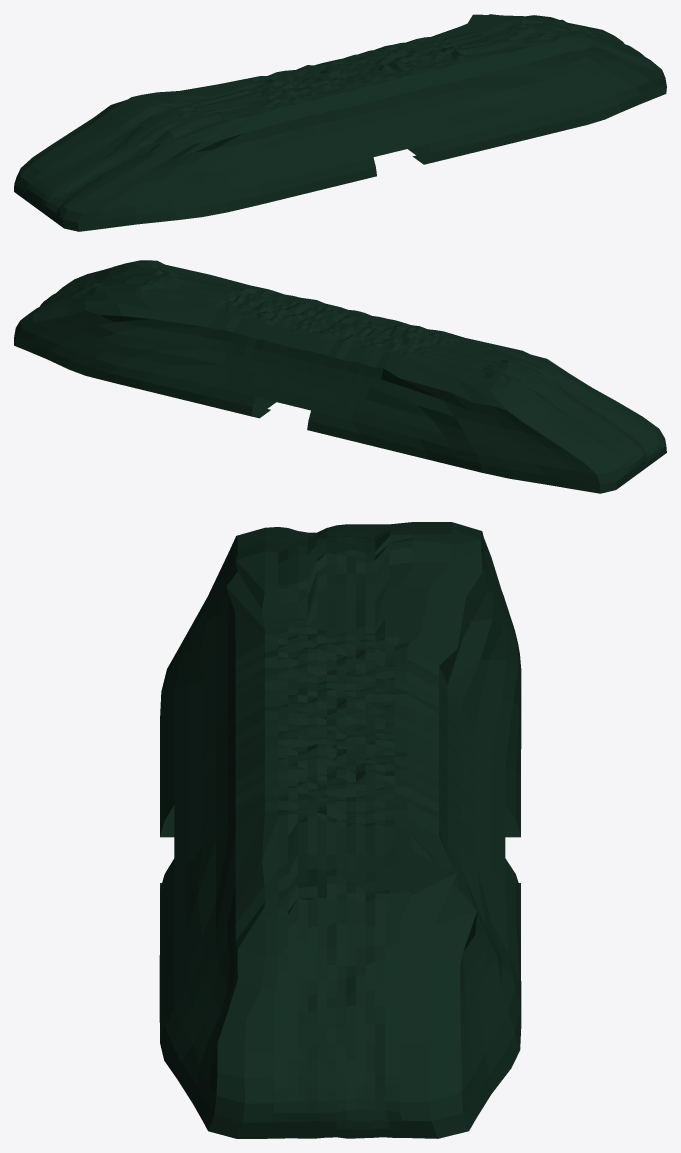
The model's file is tunnel_overground.glb.
The picture shows the model from 3 angles, top to bottom: view 1: azimuth 30°, elevation 25°; view 2: azimuth 150°, elevation 25°; view 3: azimuth 270°, elevation 25°; orthographic projection. The views are drawn at different scales.
Parts seen in each view (by area): view 1: tunnel_overground; view 2: tunnel_overground; view 3: tunnel_overground.
Boxes of the visible parts, bbox=[...] form: tunnel_overground: bbox=[14, 14, 666, 231]; tunnel_overground: bbox=[14, 260, 666, 493]; tunnel_overground: bbox=[159, 522, 521, 1138].
Size of the model in its own units: 1533 by 170 by 402.
